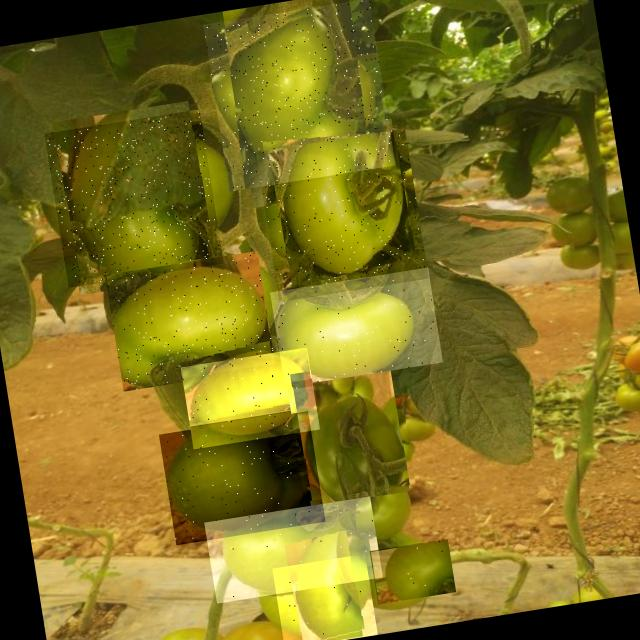Unripe Tomato: (203, 0, 395, 191), (45, 109, 224, 288), (256, 128, 429, 302), (105, 251, 276, 392), (159, 411, 326, 545), (270, 268, 443, 388), (204, 496, 383, 604), (288, 374, 416, 502), (181, 348, 320, 449), (272, 553, 378, 640), (370, 538, 456, 604)
